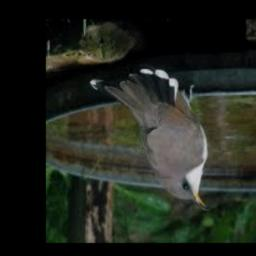Cuckoo: (90, 69, 212, 211)
